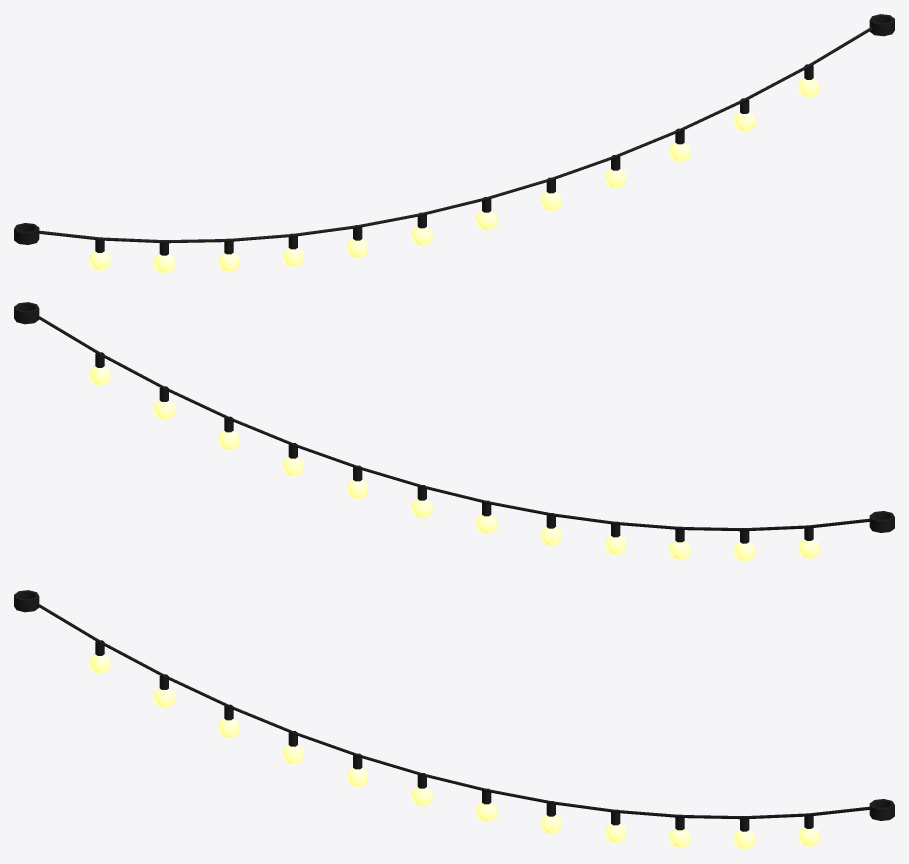
The model's file is guirnalda_luces_mediano.glb.
The picture shows the model from 3 angles, top to bottom: view 1: azimuth 30°, elevation 25°; view 2: azimuth 150°, elevation 25°; view 3: azimuth 330°, elevation 25°; orthographic projection.
Visible parts, largest first — view 1: guirnalda_luces_mediano_cuerpo, pieza_lamparitas; view 2: guirnalda_luces_mediano_cuerpo, pieza_lamparitas; view 3: guirnalda_luces_mediano_cuerpo, pieza_lamparitas.
Boxes of the visible parts, left/top/right/bottom form: guirnalda_luces_mediano_cuerpo: left=14, top=14, right=894, bottom=255; pieza_lamparitas: left=89, top=78, right=819, bottom=273; guirnalda_luces_mediano_cuerpo: left=14, top=302, right=894, bottom=543; pieza_lamparitas: left=89, top=366, right=819, bottom=561; guirnalda_luces_mediano_cuerpo: left=14, top=590, right=894, bottom=831; pieza_lamparitas: left=89, top=654, right=819, bottom=849.
Bounding box in the file's own units: 2.4 × 0.3 × 0.056.
